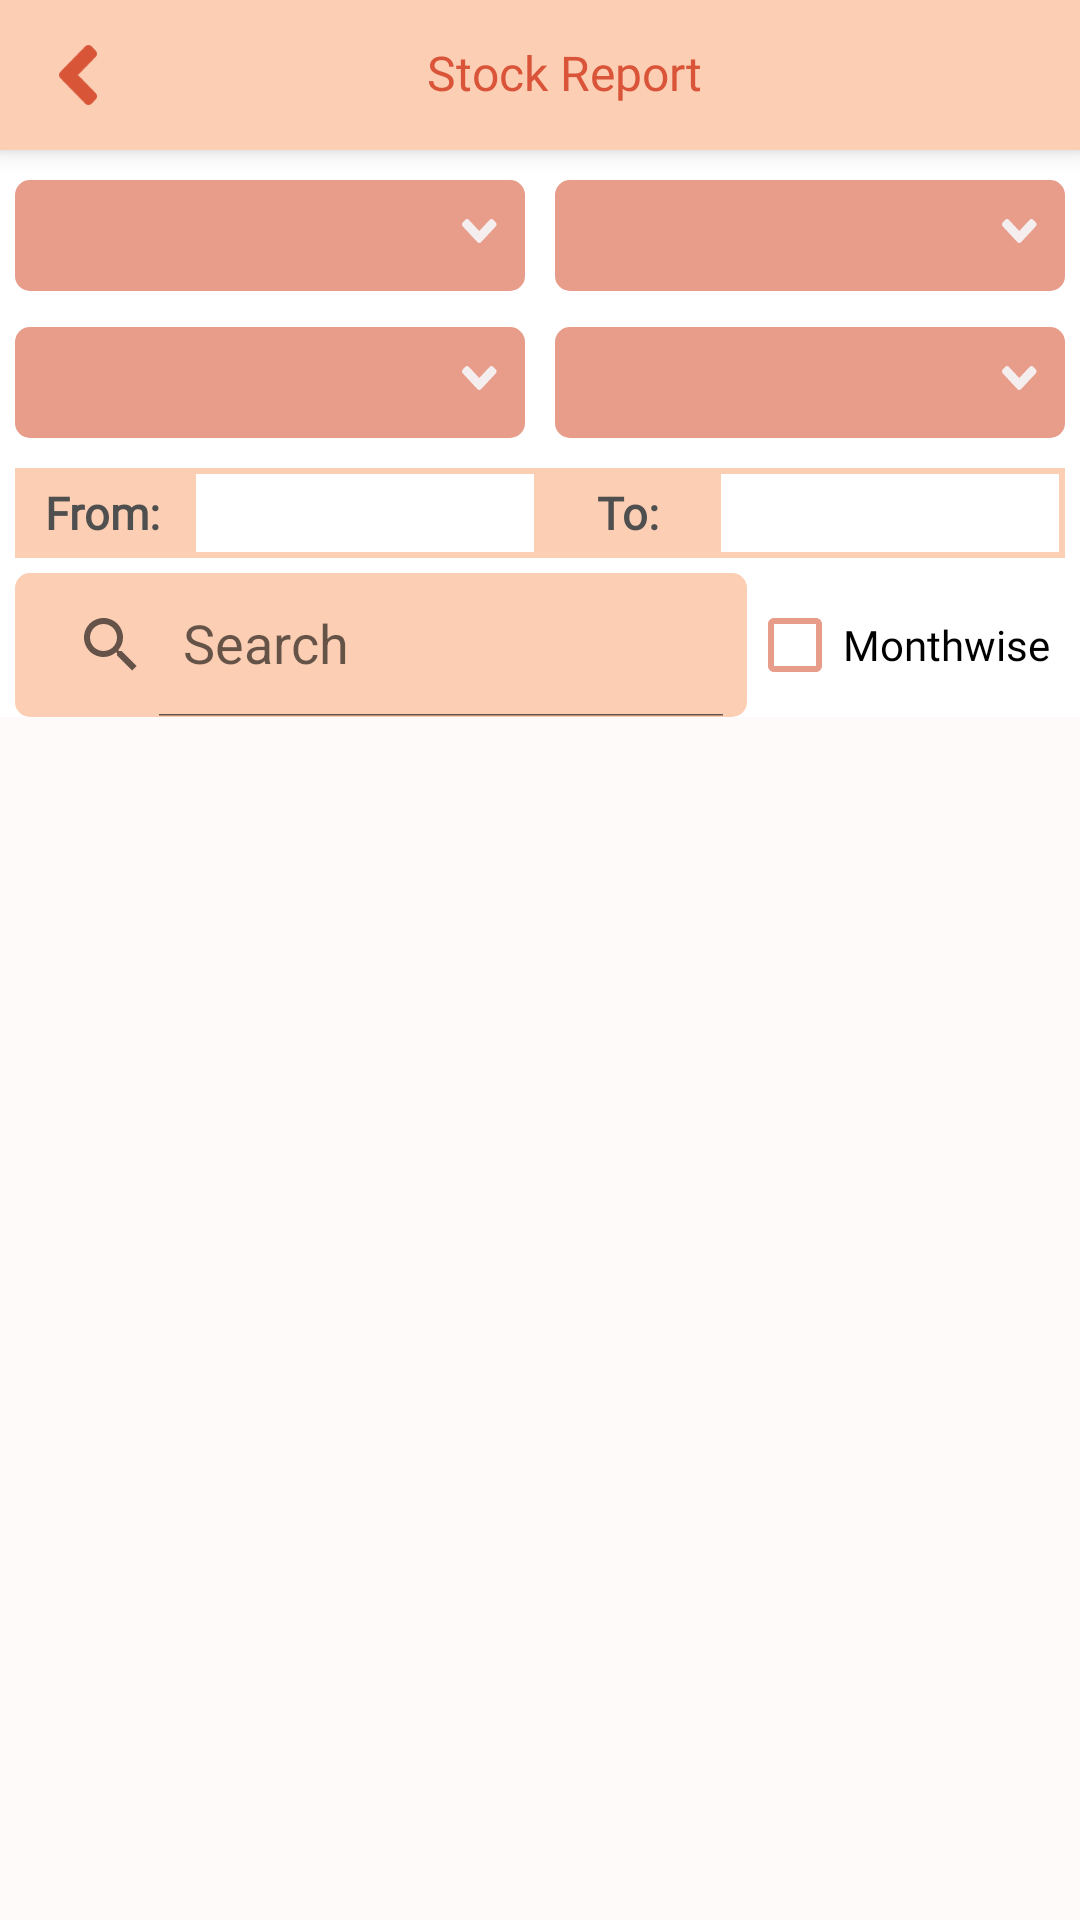

Icons on this 1080*1920 Android screen, each with the point to tap as (x=x, y=y):
back: (x=78, y=75)
